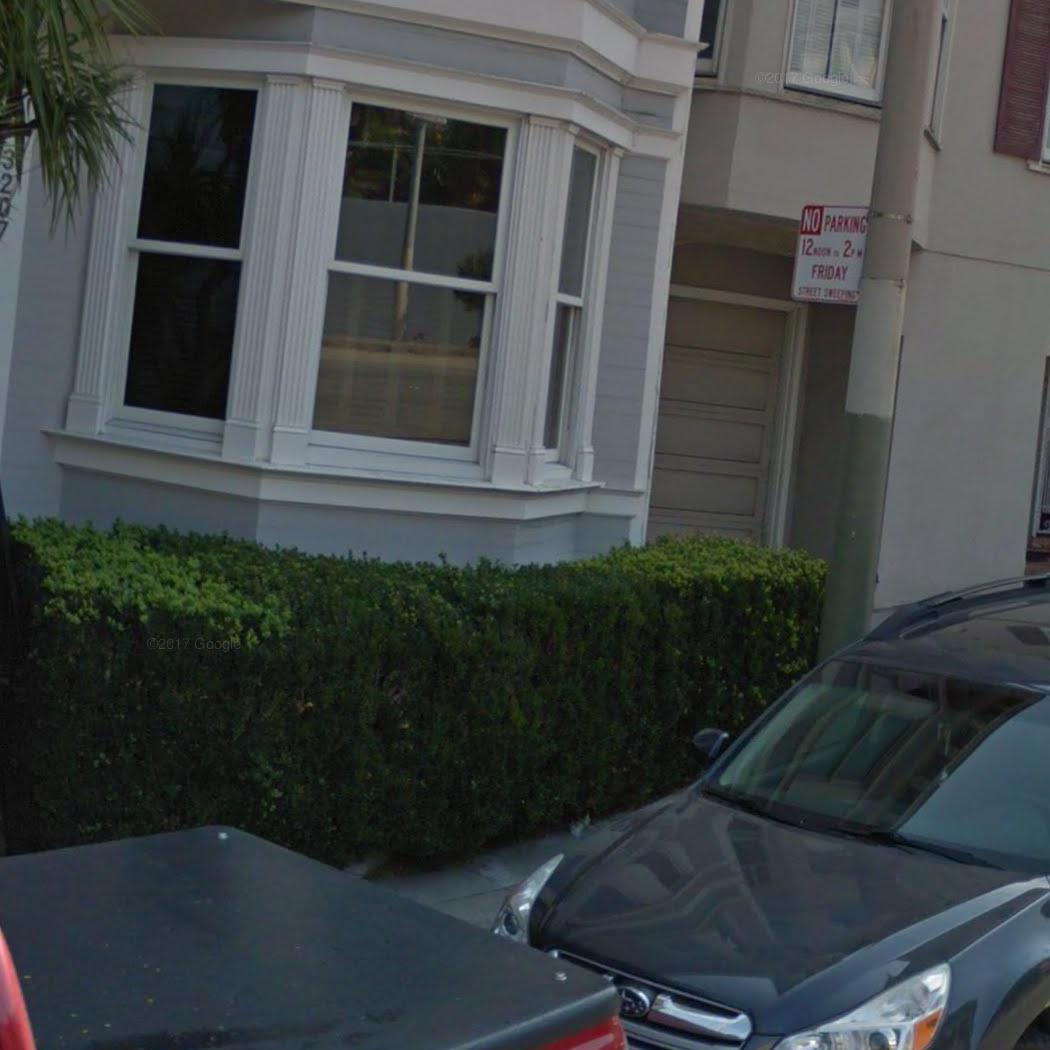No Parking: (791, 195, 878, 306)
